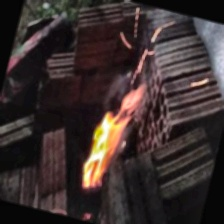fire: (64, 66, 152, 209)
